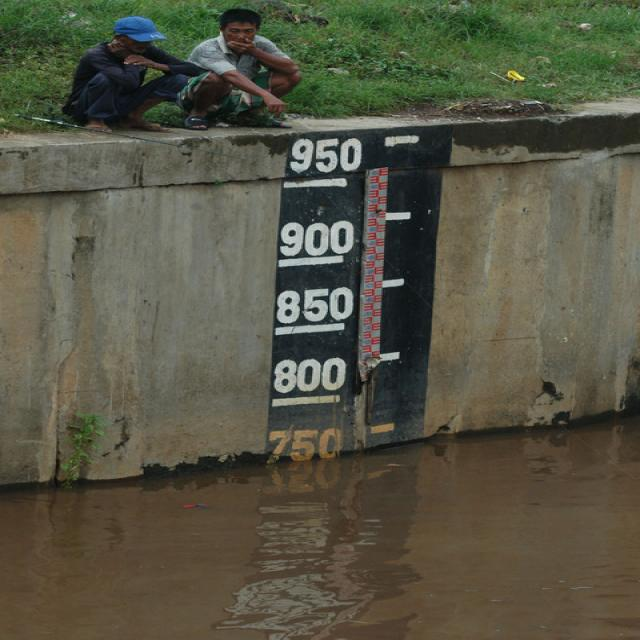ruler: (250, 121, 466, 468)
value: (261, 421, 351, 466), (284, 131, 370, 178), (274, 214, 359, 261), (269, 352, 355, 397), (271, 287, 362, 328)
